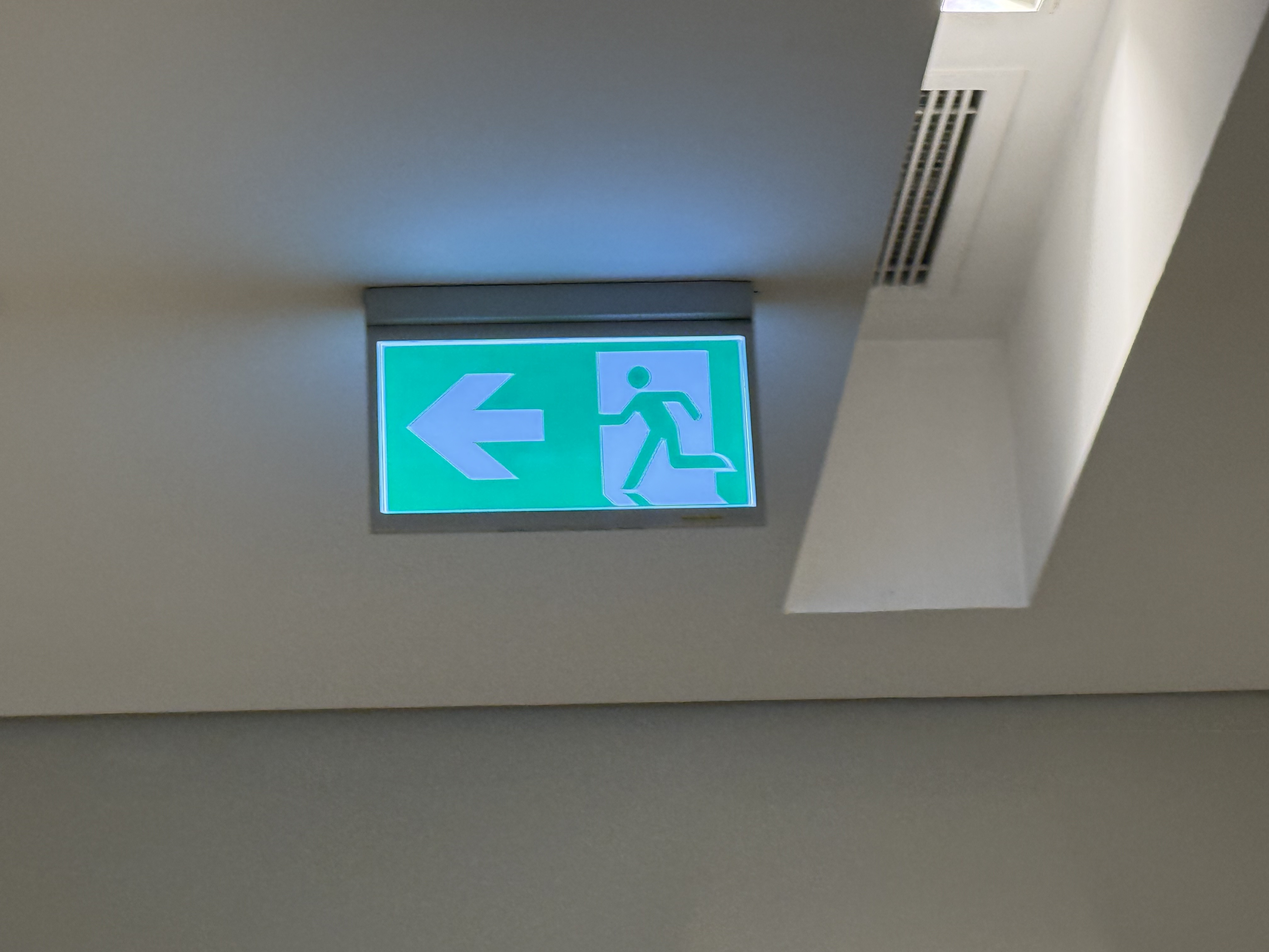emergency_exit: (361, 281, 762, 530), (370, 330, 759, 520)
